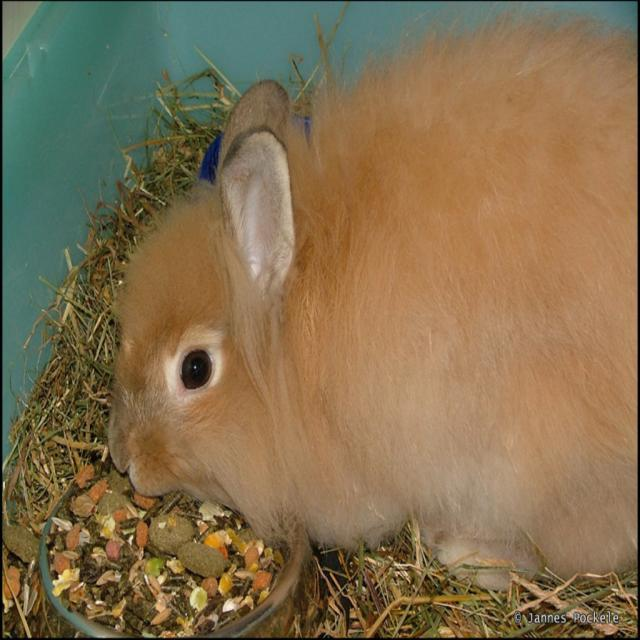rat: (106, 0, 639, 587)
